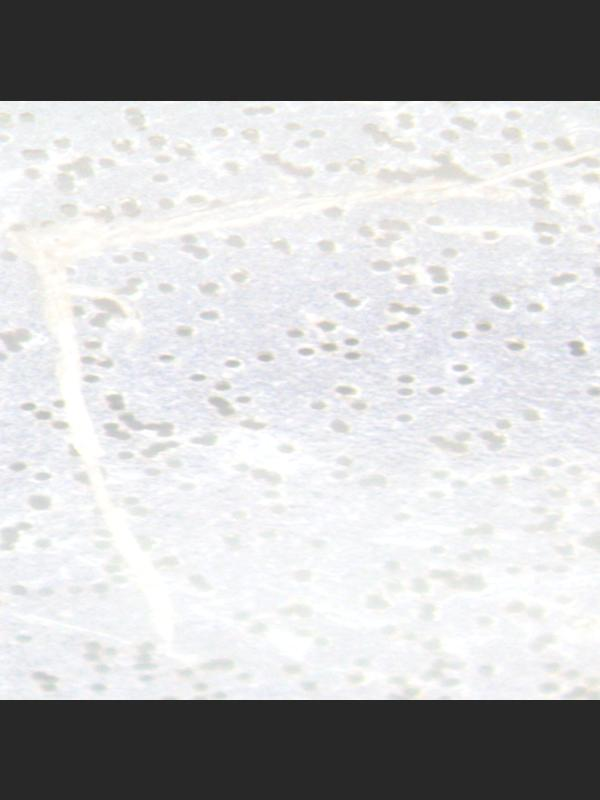microplastic: (0, 102, 600, 699)
